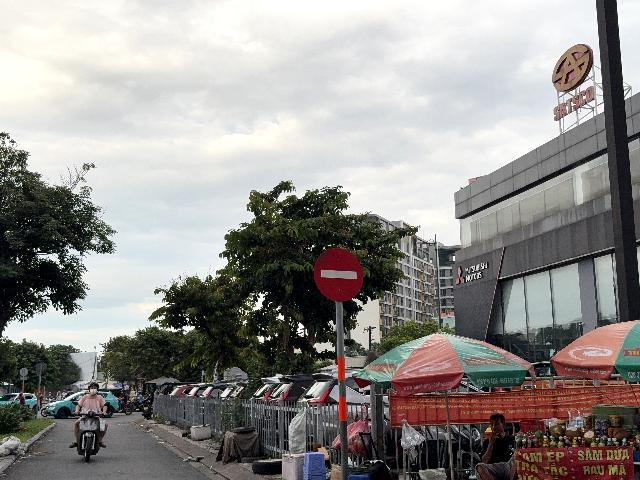cam-di-nguoc-chieu: (314, 248, 363, 302)
